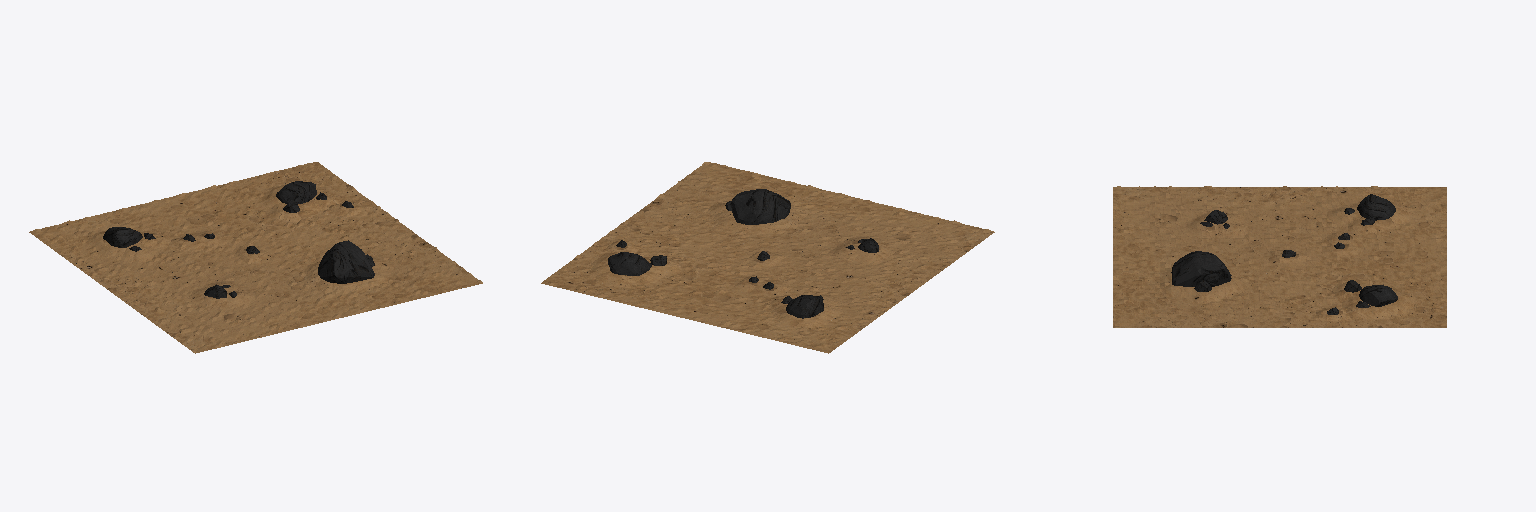
3 views of the same model, side by side, from view 1: azimuth 30°, elevation 25°; view 2: azimuth 150°, elevation 25°; view 3: azimuth 270°, elevation 25° (orthographic).
Parts seen in each view (by area): view 1: Plane.001_Plane.002, Plane, Cube.002, Cube.001, Cube; view 2: Plane.001_Plane.002, Plane, Cube.002, Cube.001, Cube; view 3: Plane.001_Plane.002, Plane, Cube.002, Cube, Cube.001.
Boxes of the visible parts, <box> form: Plane.001_Plane.002: <box>30,162,482,353</box>; Plane: <box>29,165,477,352</box>; Cube.002: <box>318,240,374,283</box>; Cube.001: <box>276,181,316,203</box>; Cube: <box>103,227,142,247</box>; Plane.001_Plane.002: <box>541,162,993,353</box>; Plane: <box>549,165,994,352</box>; Cube.002: <box>731,189,790,224</box>; Cube.001: <box>608,252,651,275</box>; Cube: <box>786,295,823,318</box>; Plane.001_Plane.002: <box>1113,186,1446,327</box>; Plane: <box>1113,187,1446,327</box>; Cube.002: <box>1171,251,1231,286</box>; Cube: <box>1357,194,1395,220</box>; Cube.001: <box>1359,285,1397,306</box>.
Size of the model in its own units: 20 by 3.46 by 20.
3 materials, 2 textured.